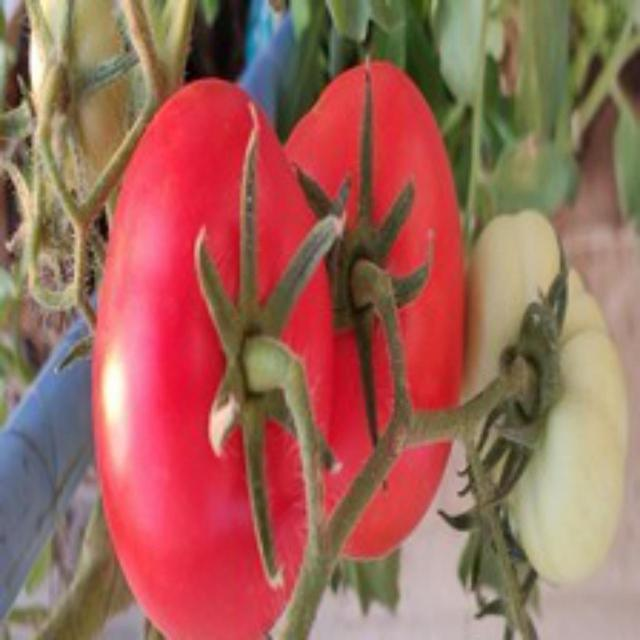tomato: (94, 68, 314, 637), (258, 36, 472, 568)
